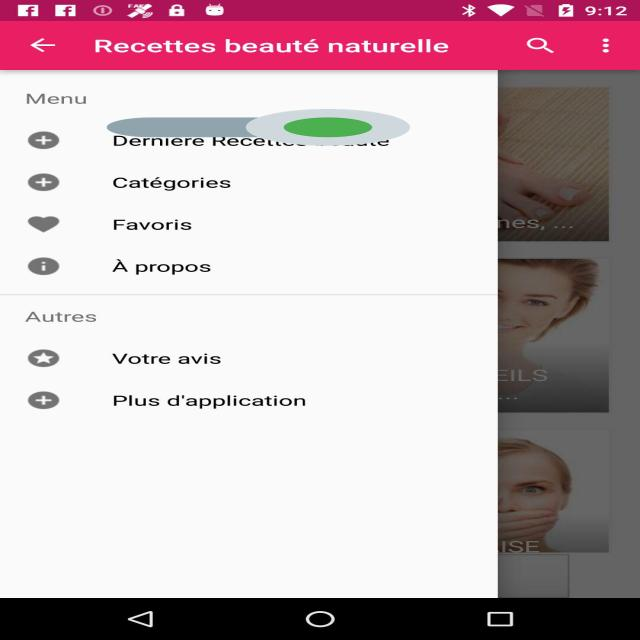social proof: (107, 94, 410, 162)
